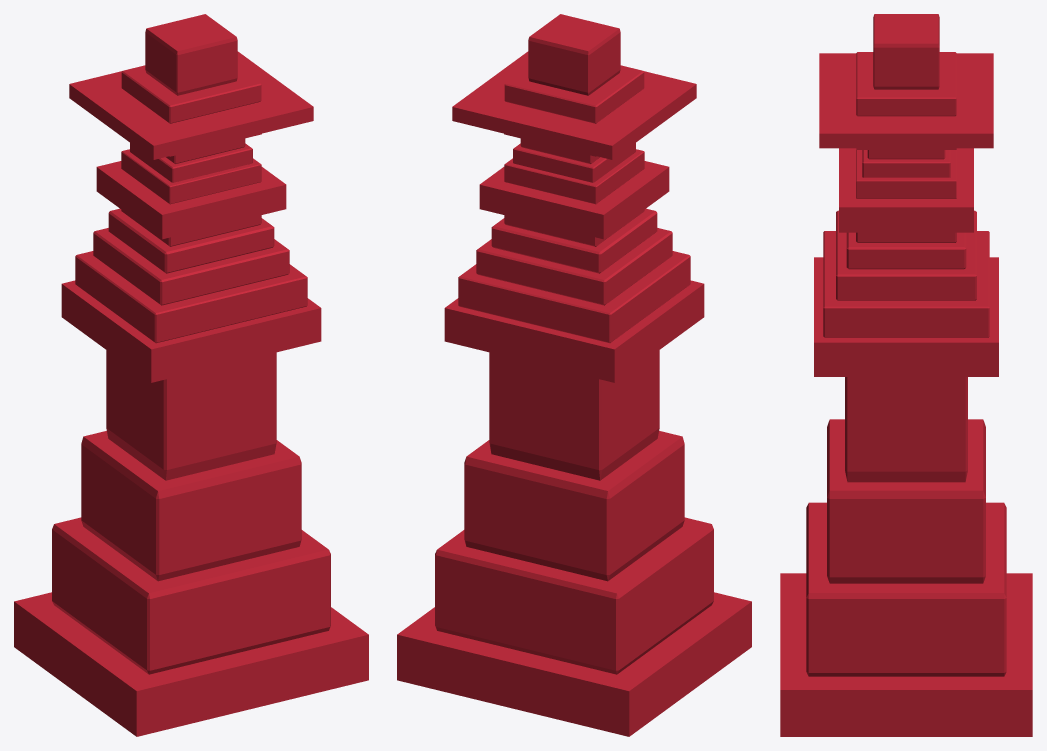
The model's file is KINETIKA_EMPILEMENT_DESTRUCTIBLE_5.FBX.
3 views of the same model, side by side, from view 1: azimuth 30°, elevation 25°; view 2: azimuth 150°, elevation 25°; view 3: azimuth 270°, elevation 25° (orthographic). The views are drawn at different scales.
Parts seen in each view (by area): view 1: Box088, Empilement5, Box086, Box078, Box089, Box087, Box090, Box079, Box083, Box077, Box080, Box076 (+4 smaller); view 2: Box088, Empilement5, Box086, Box078, Box089, Box087, Box090, Box079, Box083, Box077, Box080, Box076 (+4 smaller); view 3: Box088, Empilement5, Box086, Box078, Box087, Box089, Box090, Box079, Box083, Box077, Box076, Box080 (+4 smaller).
Boxes of the visible parts, box(x1,y1,x2,y2) form: Box088: box(52, 517, 330, 674); Empilement5: box(14, 592, 368, 736); Box086: box(81, 431, 301, 581); Box078: box(106, 350, 276, 480); Box089: box(61, 280, 321, 382); Box087: box(69, 51, 313, 159); Box090: box(75, 251, 307, 343); Box079: box(96, 161, 286, 239); Box083: box(93, 228, 289, 305); Box077: box(145, 14, 237, 95); Box080: box(108, 208, 274, 273); Box076: box(121, 65, 261, 123); Box088: box(435, 517, 713, 674); Empilement5: box(397, 592, 751, 736); Box086: box(464, 431, 684, 581); Box078: box(489, 350, 659, 480); Box089: box(444, 280, 704, 382); Box087: box(452, 51, 696, 159); Box090: box(458, 251, 690, 343); Box079: box(479, 161, 669, 239); Box083: box(476, 228, 672, 305); Box077: box(528, 14, 620, 95); Box080: box(491, 208, 657, 273); Box076: box(504, 65, 644, 123); Box088: box(806, 502, 1006, 676); Empilement5: box(780, 573, 1032, 736); Box086: box(827, 419, 985, 583); Box078: box(845, 377, 967, 482); Box087: box(819, 53, 993, 148); Box089: box(814, 257, 998, 376); Box090: box(823, 231, 989, 337); Box079: box(839, 148, 973, 232); Box083: box(836, 210, 976, 300); Box077: box(873, 14, 939, 89); Box076: box(856, 52, 956, 116); Box080: box(846, 232, 966, 269).
Bounding box in the file's own units: 13.48 × 35.03 × 12.34.
